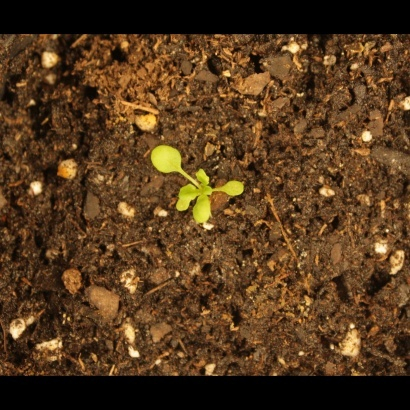leaf: (150, 143, 188, 174), (218, 176, 248, 201), (190, 197, 220, 222), (168, 196, 191, 219), (178, 182, 201, 205), (196, 181, 219, 204), (195, 166, 218, 189)
